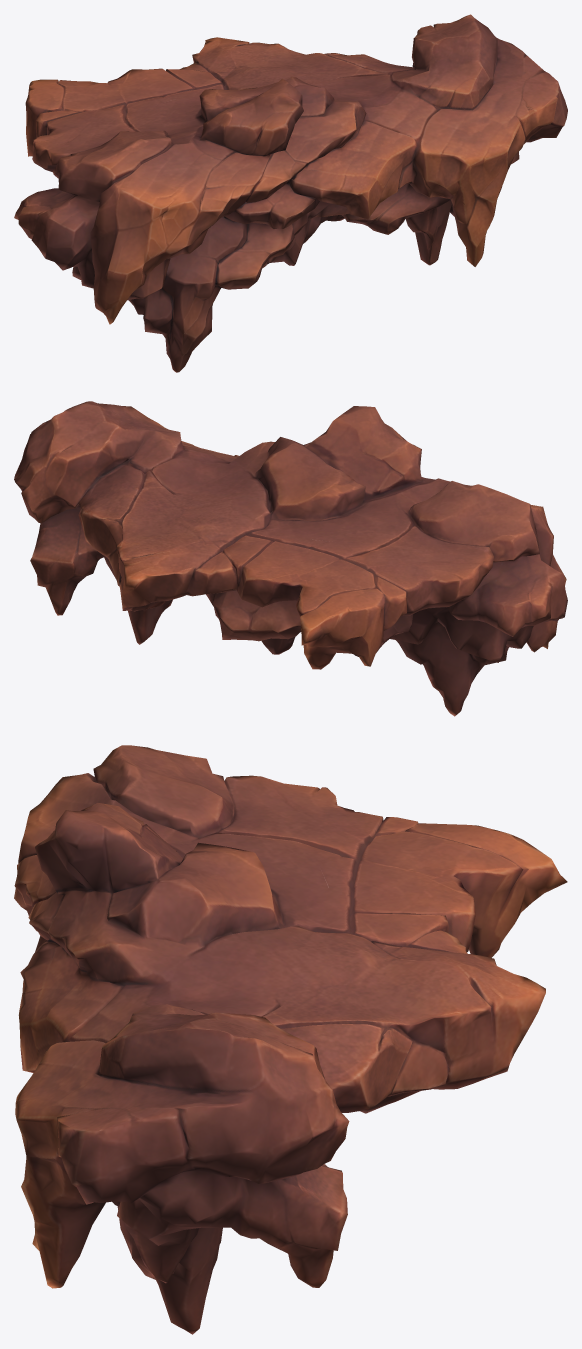
File: cave-roof-3.glb
3 views of the same model, one above another, from view 1: azimuth 30°, elevation 25°; view 2: azimuth 150°, elevation 25°; view 3: azimuth 270°, elevation 25° (orthographic). The views are drawn at different scales.
Visible parts, largest first — view 1: tripo_node_416f5e7b-dec6-40aa-867d-abfaa35d5ce0; view 2: tripo_node_416f5e7b-dec6-40aa-867d-abfaa35d5ce0; view 3: tripo_node_416f5e7b-dec6-40aa-867d-abfaa35d5ce0.
Boxes of the visible parts, x1,y1,x2,y2 form: tripo_node_416f5e7b-dec6-40aa-867d-abfaa35d5ce0: [14, 14, 567, 372]; tripo_node_416f5e7b-dec6-40aa-867d-abfaa35d5ce0: [14, 401, 567, 716]; tripo_node_416f5e7b-dec6-40aa-867d-abfaa35d5ce0: [14, 745, 567, 1334].
Size of the model in its own units: 1 by 0.4971 by 0.602.
1 material, 1 textured.
